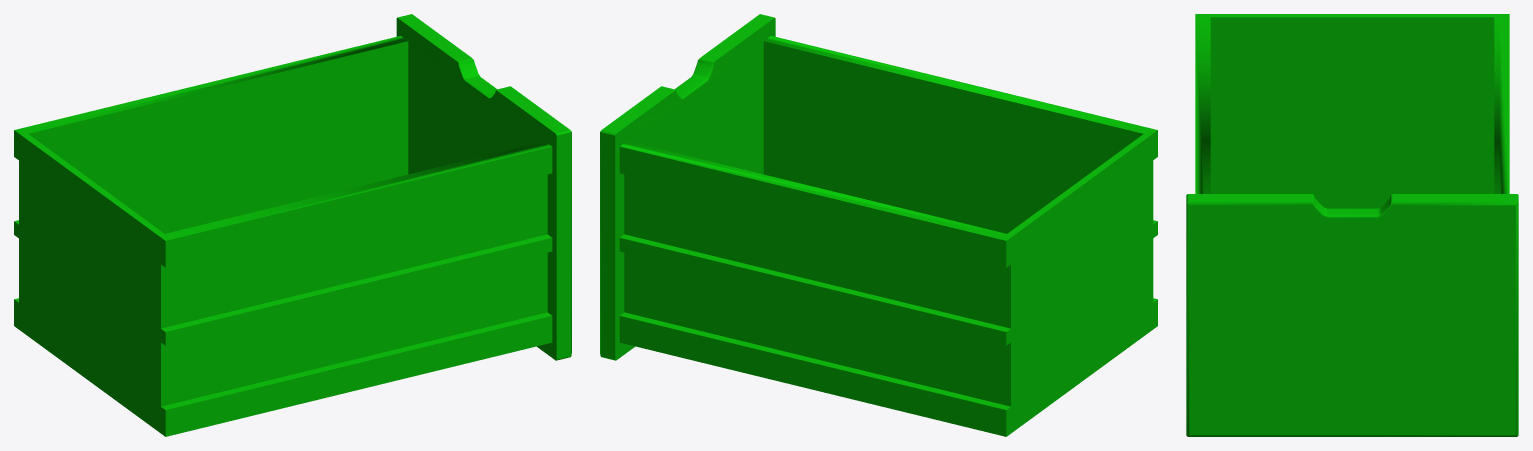
Rendered from Tiroirbas_low.fbx.
3 renders of one model, left to right at view 1: azimuth 30°, elevation 25°; view 2: azimuth 150°, elevation 25°; view 3: azimuth 270°, elevation 25°, orthographic. The views are drawn at different scales.
Visible parts, largest first — view 1: TiroitBas1_high; view 2: TiroitBas1_high; view 3: TiroitBas1_high.
Part boxes in pixels (bbox=[...]): TiroitBas1_high: bbox=[14, 14, 571, 436]; TiroitBas1_high: bbox=[600, 14, 1157, 436]; TiroitBas1_high: bbox=[1186, 14, 1518, 436].
Size of the model in its own units: 98.94 by 53.19 by 68.01.
